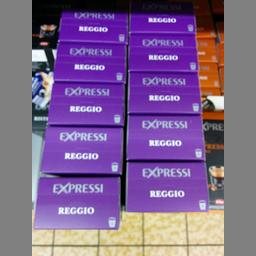coffee: (32, 174, 120, 231), (122, 160, 210, 213), (36, 124, 124, 174), (124, 112, 206, 161), (46, 78, 126, 124), (127, 70, 201, 116), (52, 41, 126, 81), (126, 32, 198, 72), (57, 10, 128, 44), (128, 2, 197, 33)
